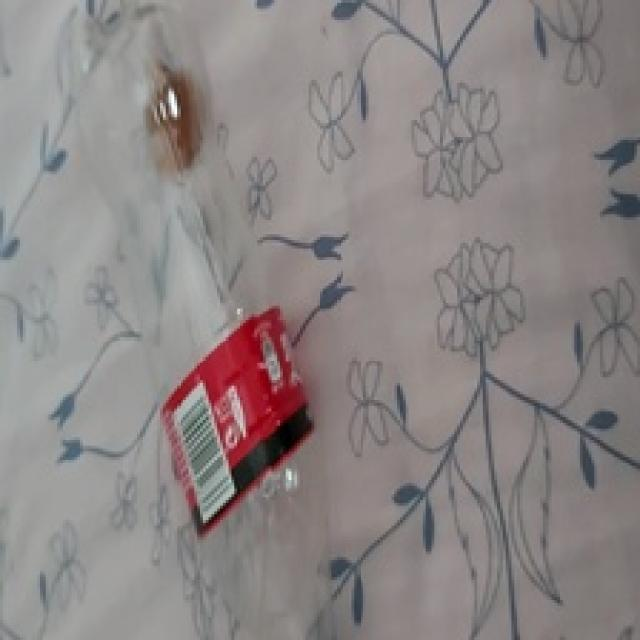Plastic: (54, 1, 325, 634)
